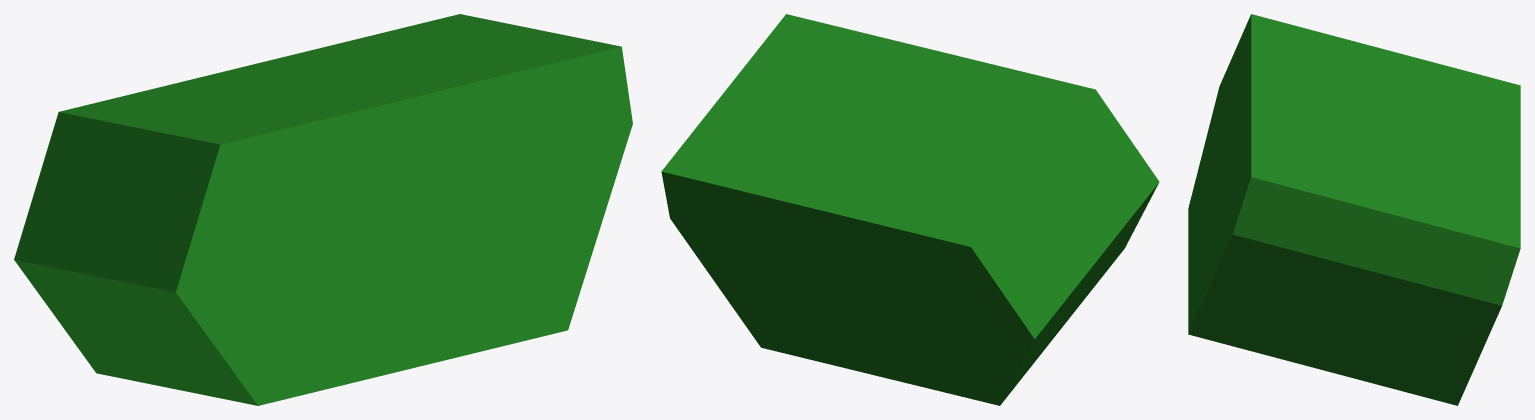
Rendered from original-114.obj.
3 renders of one model, left to right at view 1: azimuth 30°, elevation 25°; view 2: azimuth 150°, elevation 25°; view 3: azimuth 270°, elevation 25°, orthographic. The views are drawn at different scales.
Visible parts, largest first — view 1: #ID672; view 2: #ID672; view 3: #ID672.
Boxes of the visible parts, <box> form: #ID672: <box>14,14,632,405</box>; #ID672: <box>661,14,1159,405</box>; #ID672: <box>1188,14,1520,405</box>.
Bounding box in the file's own units: 0.00948 × 0.00623 × 0.00705.
